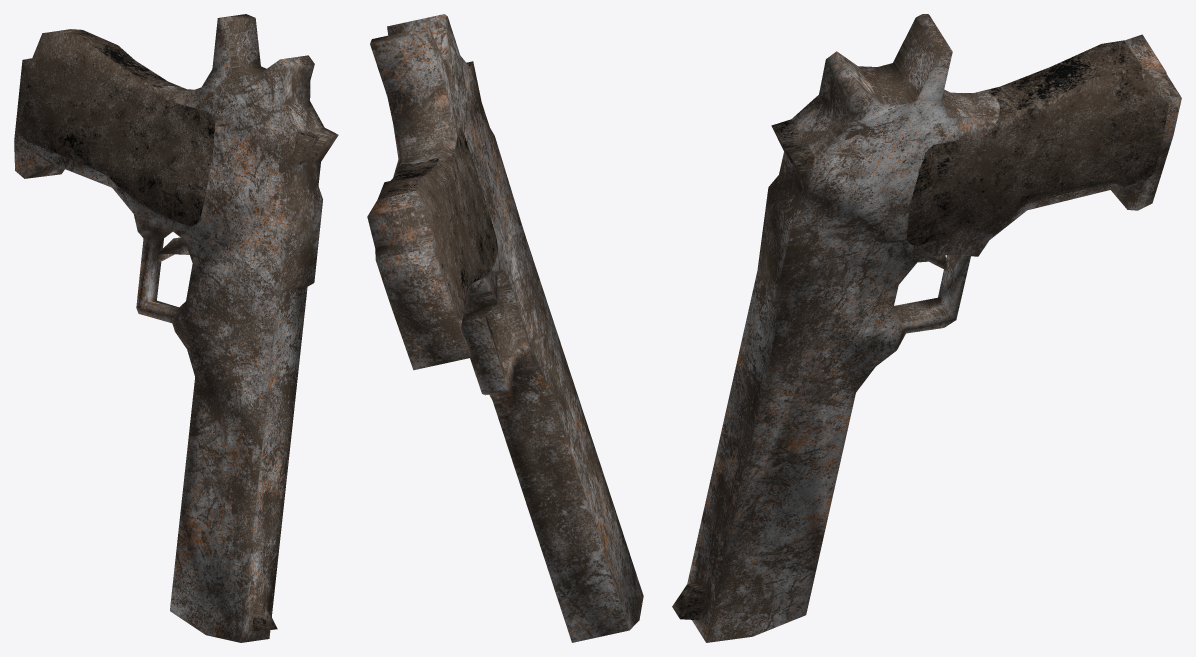
Rendered from Anim_disparar_pistola_objetos.0034.obj.
3 renders of one model, left to right at view 1: azimuth 30°, elevation 25°; view 2: azimuth 150°, elevation 25°; view 3: azimuth 270°, elevation 25°, orthographic. The views are drawn at different scales.
Visible parts, largest first — view 1: Pistola1; view 2: Pistola1; view 3: Pistola1.
Boxes of the visible parts, x1=… form: Pistola1: x1=14, y1=14, x2=338, y2=642; Pistola1: x1=367, y1=14, x2=643, y2=642; Pistola1: x1=672, y1=14, x2=1181, y2=642.
Bounding box in the file's own units: 0.5894 × 1.66 × 1.17.
